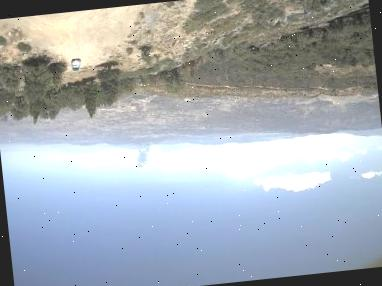smoke: (131, 141, 155, 169)
